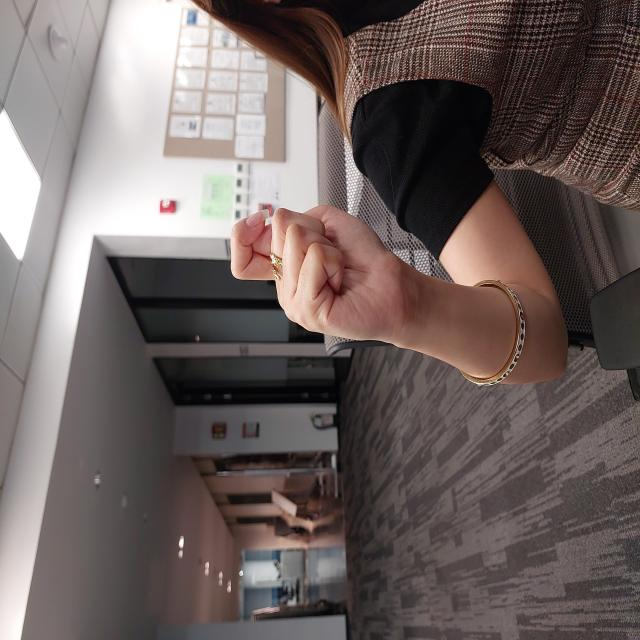T: (298, 227, 440, 409)
